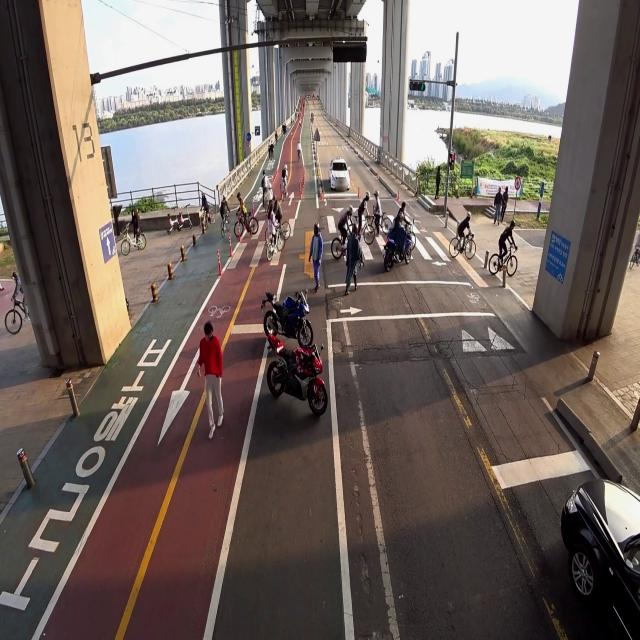Car: (545, 439, 640, 640), (328, 153, 352, 194)
Motorcycle: (383, 210, 412, 274)
